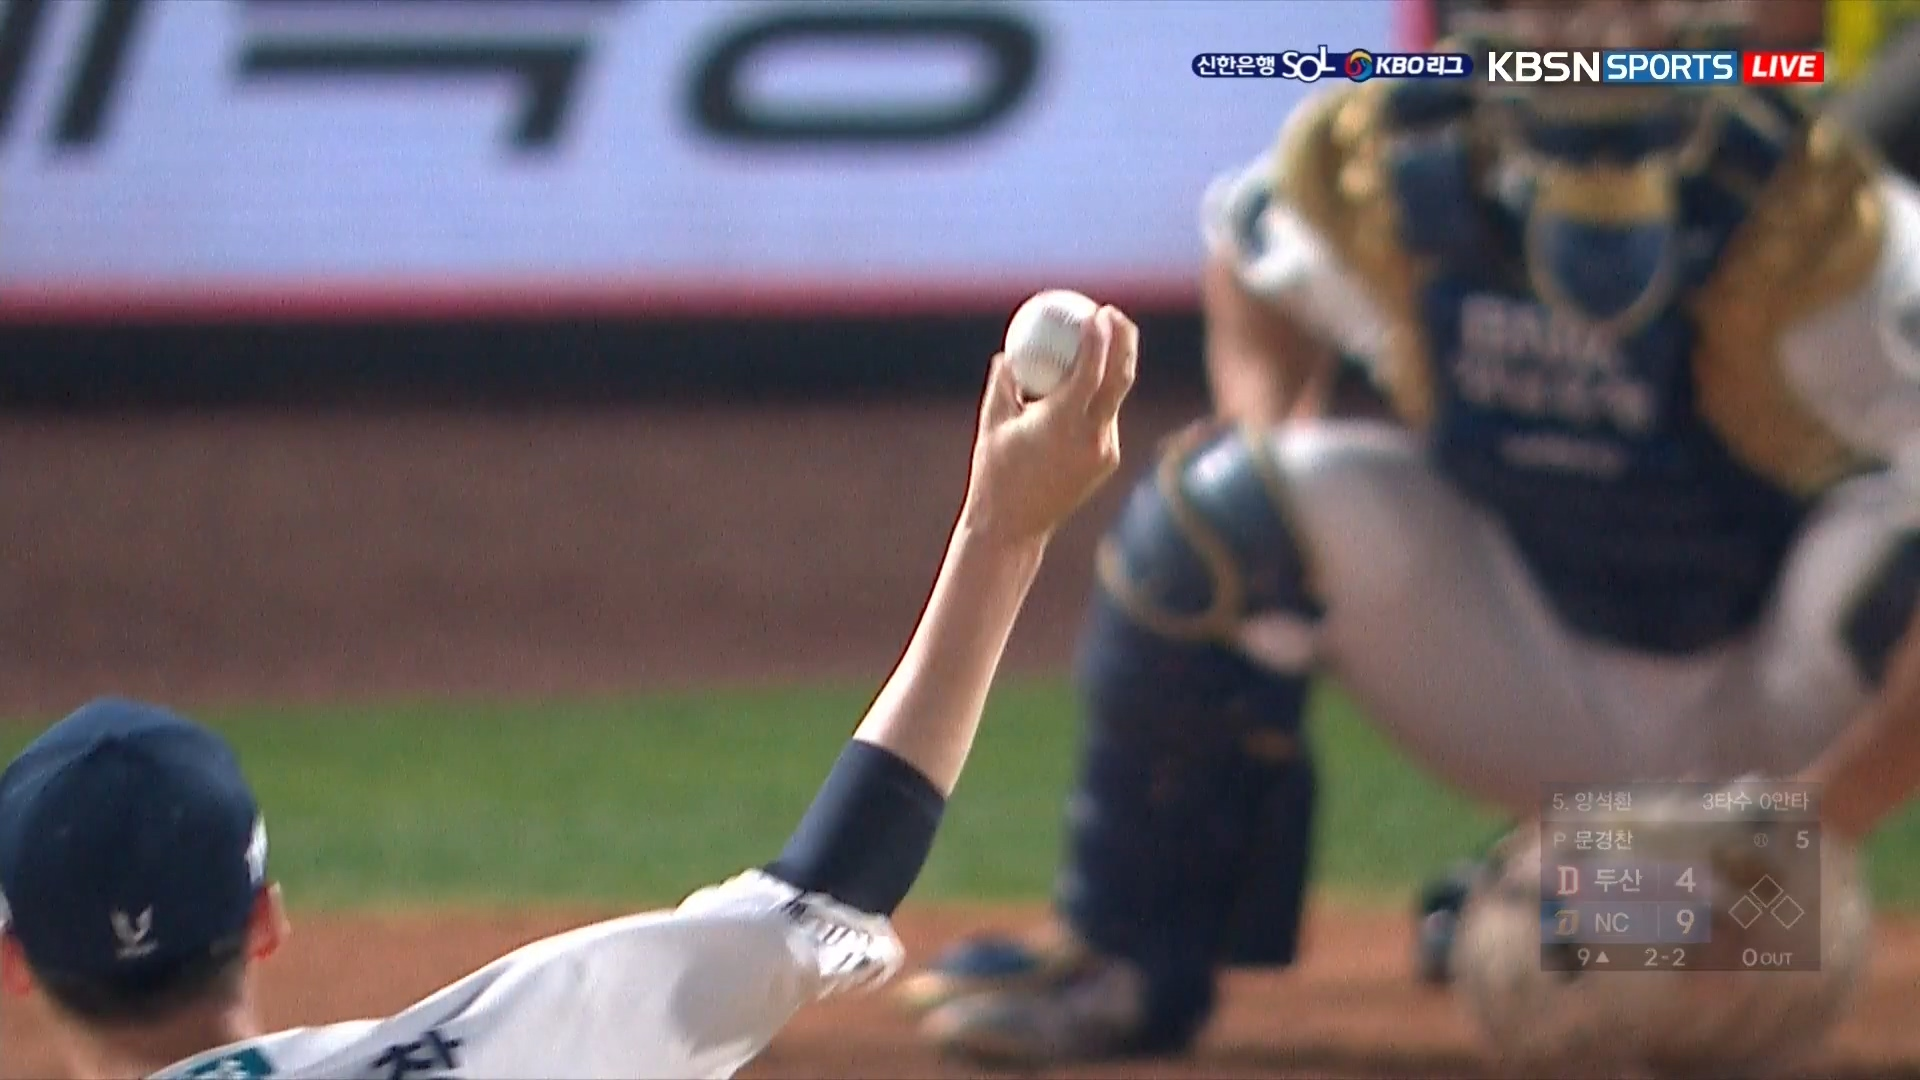zoomin_hand: (793, 268, 1150, 955)
